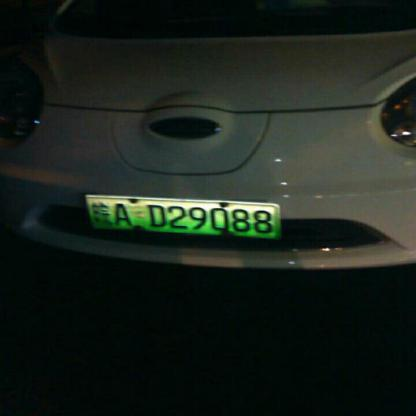lp: (84, 194, 278, 237)
